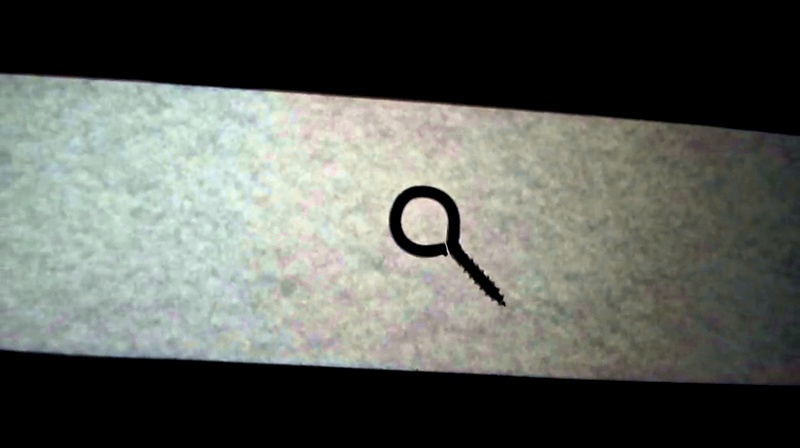O001: (385, 182, 506, 311)
